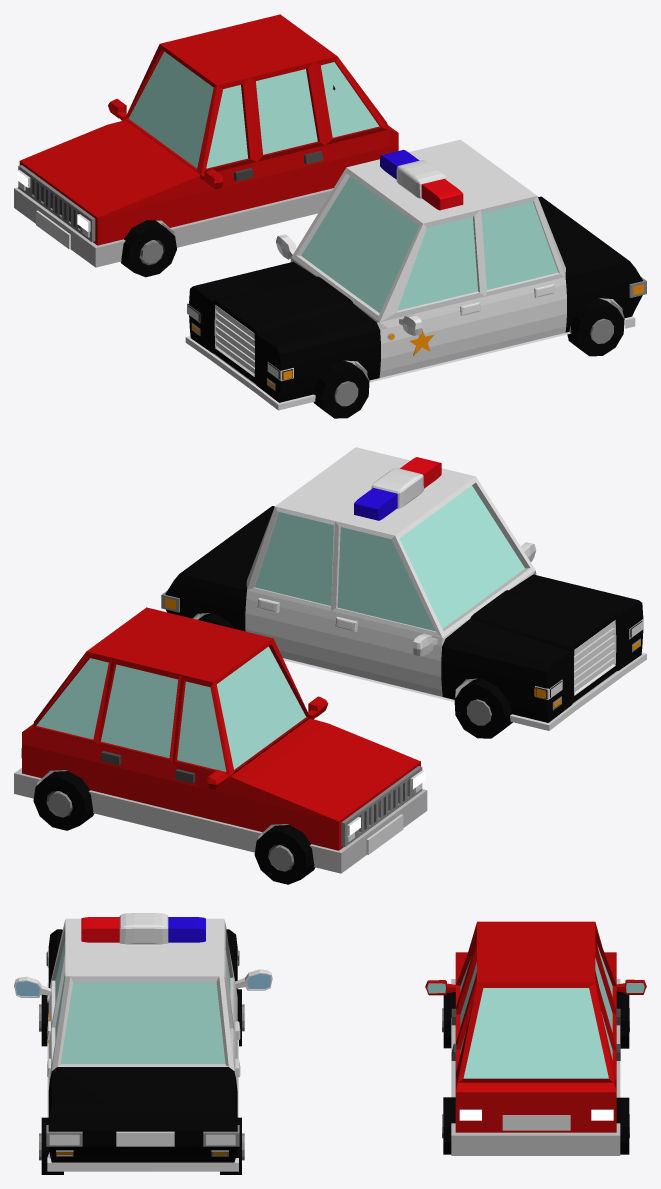
Rendered from car6.glb.
The picture shows the model from 3 angles, top to bottom: view 1: azimuth 30°, elevation 25°; view 2: azimuth 150°, elevation 25°; view 3: azimuth 270°, elevation 25°; orthographic projection. The views are drawn at different scales.
Visible parts, largest first — view 1: police car, car; view 2: police car, car; view 3: police car, car.
Part boxes in pixels (bbox=[...]): police car: bbox=[185, 139, 646, 418]; car: bbox=[14, 14, 398, 277]; police car: bbox=[161, 447, 646, 738]; car: bbox=[14, 607, 427, 884]; police car: bbox=[14, 913, 272, 1174]; car: bbox=[425, 921, 646, 1155].
Bounding box in the file's own units: 2.19 × 1.04 × 3.15.
